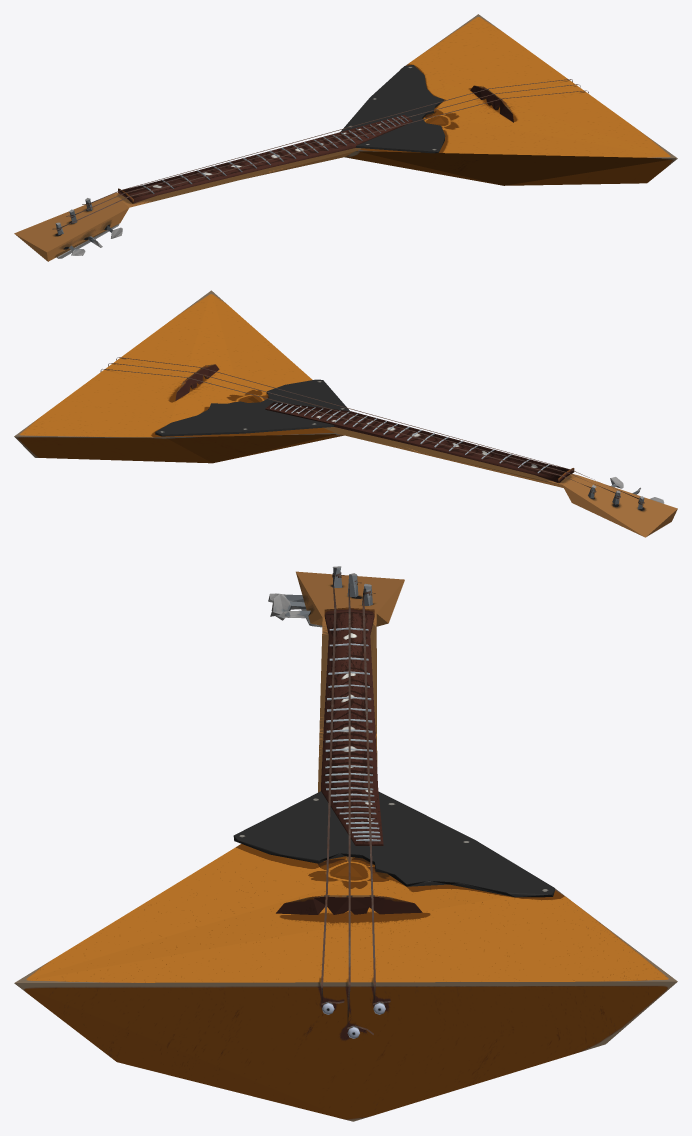
The model's file is Balala.fbx.
3 views of the same model, one above another, from view 1: azimuth 30°, elevation 25°; view 2: azimuth 150°, elevation 25°; view 3: azimuth 270°, elevation 25° (orthographic). The views are drawn at different scales.
Visible parts, largest first — view 1: balalaika.001_LP, balalaika_LP, balalaika.003_LP, balalaika.010_LP, balalaika.004_LP, balalaika.009_LP, balalaika.011_LP, balalaika.002_LP; view 2: balalaika.001_LP, balalaika_LP, balalaika.003_LP, balalaika.004_LP, balalaika.011_LP, balalaika.009_LP, balalaika.010_LP, balalaika.002_LP; view 3: balalaika.001_LP, balalaika_LP, balalaika.003_LP, balalaika.004_LP, balalaika.002_LP, balalaika.009_LP, balalaika.010_LP, balalaika.011_LP.
Boxes of the visible parts, x1,y1,x2,y2 form: balalaika.001_LP: [14, 14, 677, 261]; balalaika_LP: [340, 65, 445, 153]; balalaika.003_LP: [118, 114, 412, 203]; balalaika.010_LP: [52, 90, 588, 230]; balalaika.004_LP: [142, 115, 408, 193]; balalaika.009_LP: [66, 84, 580, 217]; balalaika.011_LP: [82, 79, 572, 206]; balalaika.002_LP: [470, 85, 513, 122]; balalaika.001_LP: [14, 290, 677, 537]; balalaika_LP: [155, 379, 349, 436]; balalaika.003_LP: [265, 402, 574, 483]; balalaika.004_LP: [270, 403, 549, 473]; balalaika.011_LP: [100, 369, 596, 495]; balalaika.009_LP: [108, 363, 620, 500]; balalaika.010_LP: [116, 357, 644, 506]; balalaika.002_LP: [175, 364, 219, 400]; balalaika.001_LP: [14, 571, 677, 1121]; balalaika_LP: [233, 791, 554, 897]; balalaika.003_LP: [321, 607, 383, 845]; balalaika.004_LP: [325, 627, 380, 841]; balalaika.002_LP: [276, 895, 422, 914]; balalaika.009_LP: [347, 580, 373, 1034]; balalaika.010_LP: [321, 572, 344, 1005]; balalaika.011_LP: [362, 591, 390, 1007].
Bounding box in the file's own units: 61.26 × 10 × 37.96.
1 material, 1 textured.
